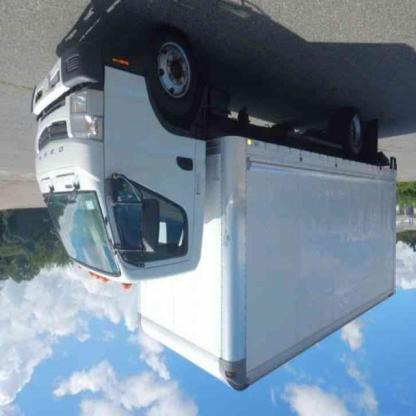truck: (31, 30, 401, 392)
